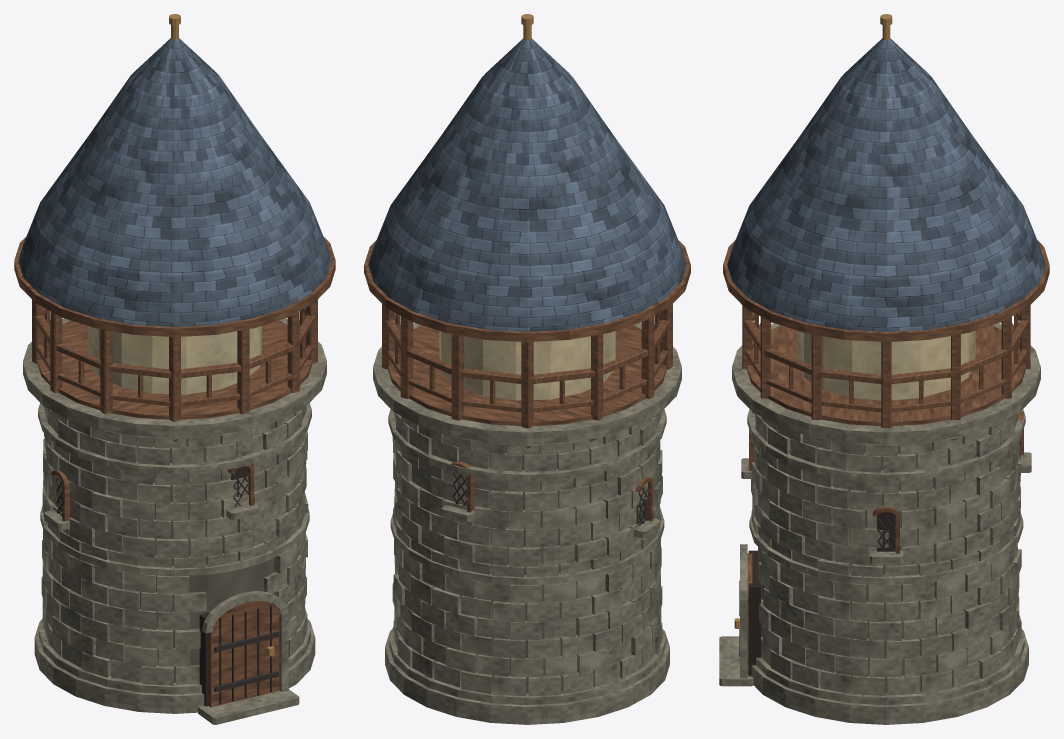
File: round_watchtower.glb
3 views of the same model, side by side, from view 1: azimuth 30°, elevation 25°; view 2: azimuth 150°, elevation 25°; view 3: azimuth 270°, elevation 25° (orthographic).
Visible parts, largest first — view 1: Round Watchtower; view 2: Round Watchtower; view 3: Round Watchtower.
Part boxes in pixels (x1,y1,x2,y2): Round Watchtower: [14, 14, 335, 724]; Round Watchtower: [364, 14, 690, 724]; Round Watchtower: [719, 14, 1049, 724].
Size of the model in its own units: 5.94 by 13.01 by 6.01.
8 materials, 5 textured.
